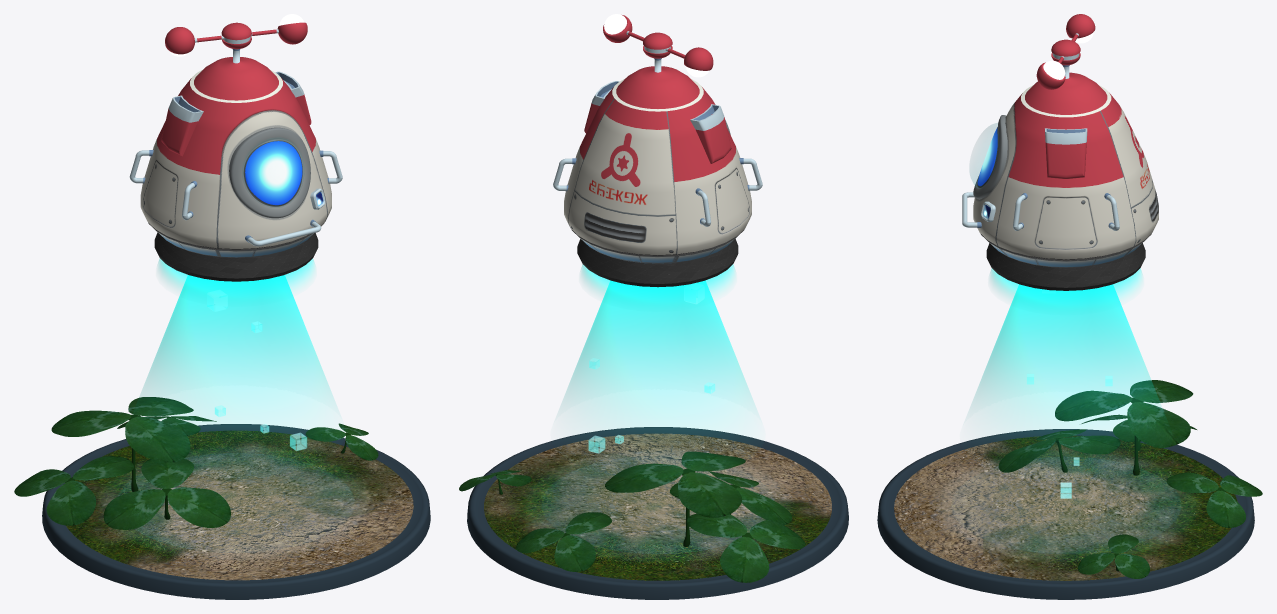
File: cute_astronaut.glb
The picture shows the model from 3 angles, left to right: view 1: azimuth 30°, elevation 25°; view 2: azimuth 150°, elevation 25°; view 3: azimuth 270°, elevation 25°; orthographic projection. The views are drawn at different scales.
Parts seen in each view (by area): view 1: pCylinder14, pCylinder1, pCylinder12, pCylinder3, Clover2, Clover1, Clover3, pCylinder13, pCube10, Clover5, pSphere8, pSphere7 (+3 smaller); view 2: pCylinder14, pCylinder1, pCylinder12, Clover1, Clover3, Clover4, pCylinder13, Clover2, pCube10, Clover5, pSphere7, pSphere8 (+2 smaller); view 3: pCylinder14, pCylinder1, pCylinder12, Clover1, Clover4, pCylinder13, Clover2, pCube9, Clover5, pCylinder3, pSphere6, pSphere8 (+4 smaller).
Boxes of the visible parts, x1,y1,x2,y2 form: pCylinder14: (42, 424, 430, 599); pCylinder1: (140, 49, 331, 281); pCylinder12: (140, 275, 332, 413); pCylinder3: (229, 127, 310, 218); Clover2: (103, 459, 230, 529); Clover1: (51, 397, 193, 491); Clover3: (14, 456, 133, 525); pCylinder13: (158, 259, 314, 298); pCube10: (161, 95, 203, 156); Clover5: (305, 423, 378, 460); pSphere8: (277, 14, 307, 44); pSphere7: (165, 27, 194, 56); pCylinder14: (467, 427, 848, 599); pCylinder1: (564, 58, 751, 287); pCylinder12: (563, 281, 752, 416); Clover1: (605, 451, 745, 546); Clover3: (687, 513, 805, 582); Clover4: (516, 512, 611, 571); pCylinder13: (581, 264, 734, 303); Clover2: (669, 471, 791, 524); pCube10: (690, 104, 731, 163); Clover5: (459, 470, 531, 494); pSphere7: (684, 47, 713, 77); pSphere8: (603, 14, 632, 42); pCylinder14: (877, 429, 1254, 599); pCylinder1: (973, 65, 1158, 290); pCylinder12: (972, 284, 1159, 419); Clover1: (1055, 380, 1193, 475); Clover4: (1166, 472, 1262, 527); pCylinder13: (990, 268, 1141, 307); Clover2: (998, 429, 1120, 472); pCube9: (1045, 128, 1087, 178); Clover5: (1078, 534, 1149, 578); pCylinder3: (973, 115, 1007, 199); pSphere6: (970, 123, 997, 187); pSphere8: (1036, 60, 1065, 89).
Size of the model in its own units: 0.0813 by 0.1144 by 0.0829.
14 materials, 14 textured.
